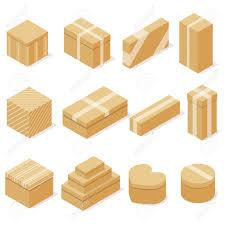Cardboard: (66, 149, 122, 212), (61, 12, 116, 73), (124, 85, 182, 141), (63, 84, 124, 137), (4, 151, 53, 213), (176, 9, 217, 77), (4, 80, 51, 137), (120, 13, 162, 76), (176, 157, 220, 212), (0, 17, 46, 69), (130, 155, 169, 210), (182, 83, 217, 142)
